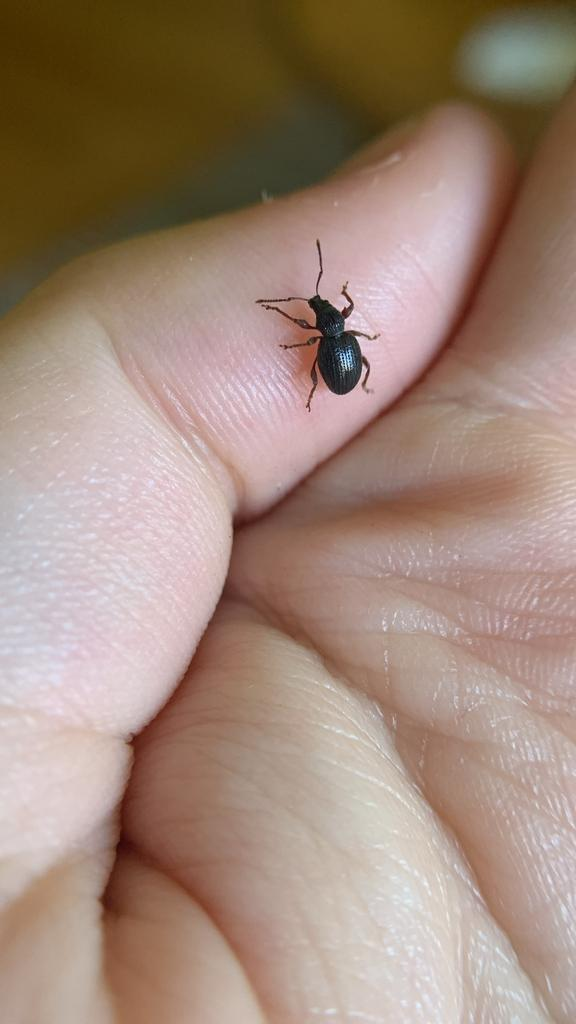weevils: (237, 223, 424, 429)
